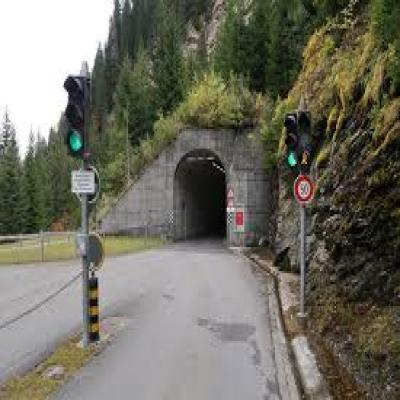clear-road: (57, 240, 281, 399)
